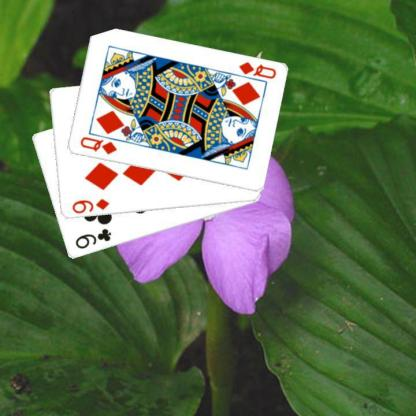9C: (72, 226, 113, 251)
9D: (70, 196, 110, 214)
QD: (77, 134, 118, 156), (236, 59, 277, 80)
